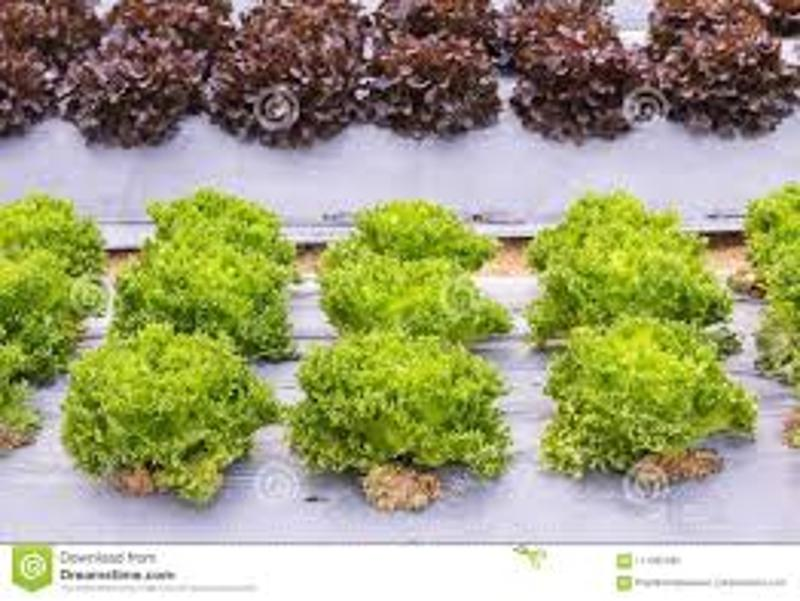green lettuce: (71, 332, 272, 503), (296, 336, 504, 476), (552, 315, 750, 461), (126, 235, 295, 365), (537, 225, 730, 330), (323, 252, 512, 347), (352, 195, 504, 277), (3, 247, 101, 363)
red lettuce: (213, 28, 370, 149), (655, 26, 800, 140), (519, 34, 653, 139), (73, 31, 201, 138), (373, 33, 502, 133)
